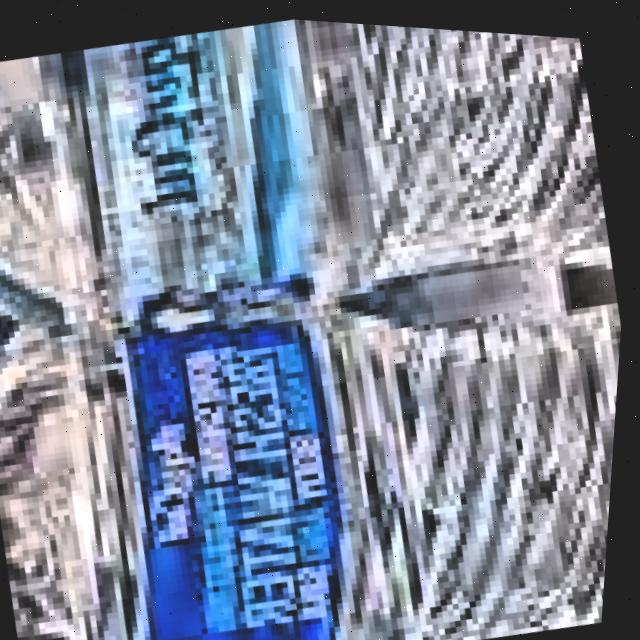plastic: (0, 158, 632, 640), (0, 0, 630, 408)
